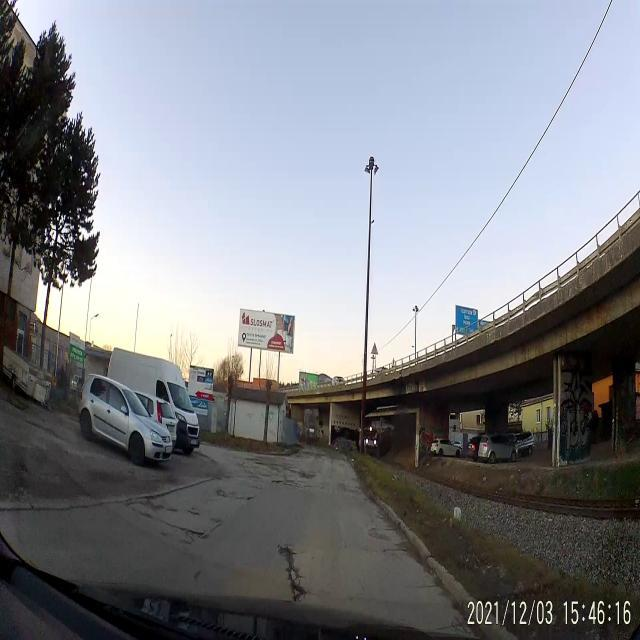Pothole: (280, 542, 308, 604), (178, 526, 208, 546)
